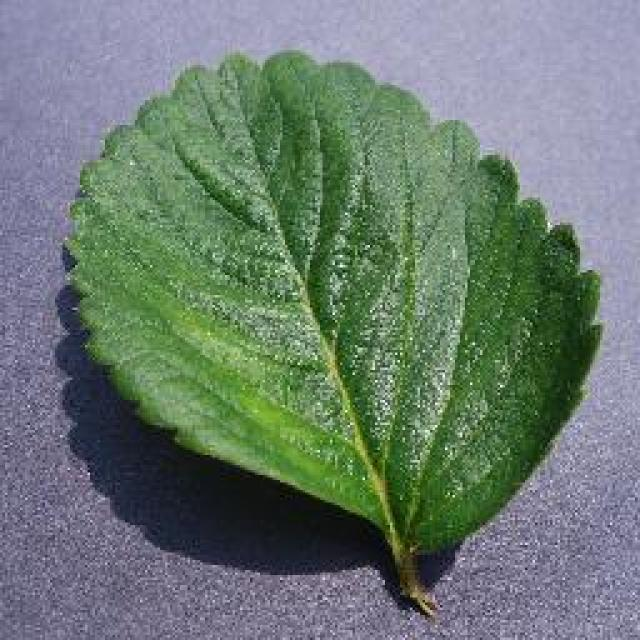Strawberry___healthy: (52, 25, 618, 630)
